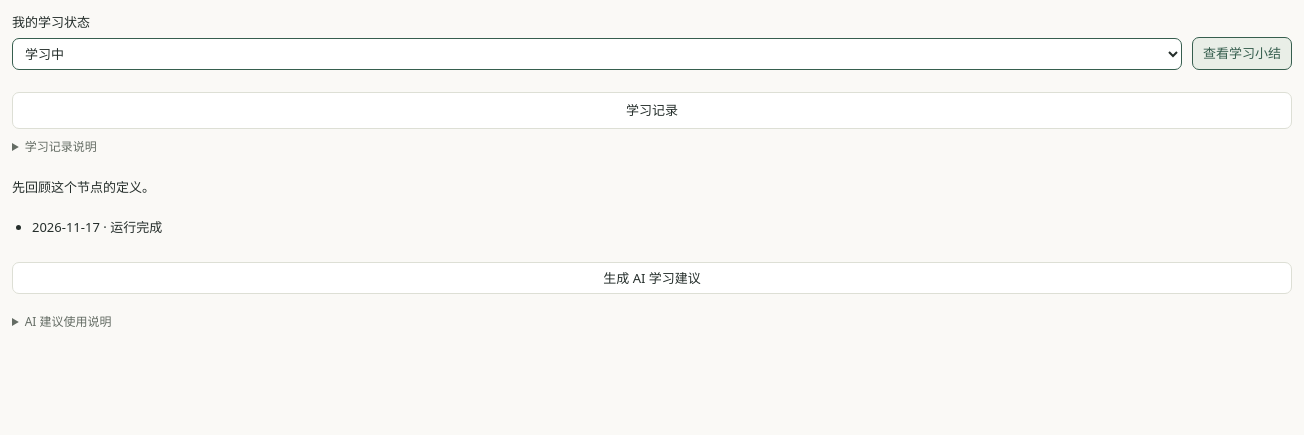
Scenario: opening the records tab directly only reads existing records and shows model scope on demand
Expected: the text "先回顾这个节点的定义。" is shown, [12,178,155,196]
Expected: the text "将当前节点、近期运行状态和最多 5 条经验的片段发送给所选模型。" is not shown
Click the heading "AI 建议使用说明". click: (68, 322)
box: [25,313,112,330]
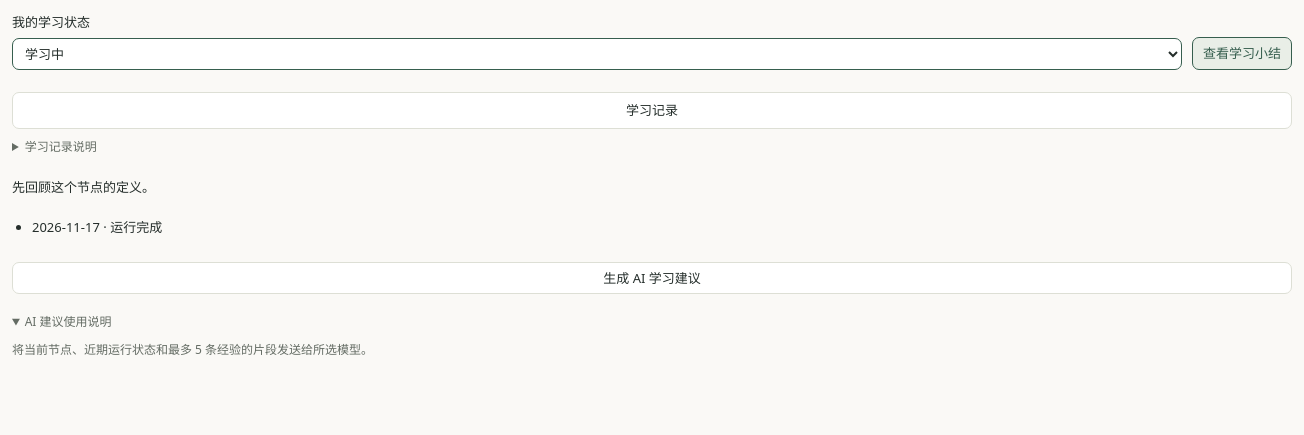
Result: the text "将当前节点、近期运行状态和最多 5 条经验的片段发送给所选模型。" is shown at [12,341,373,358]
Click the button "生成 AI 学习建议". click: (652, 278)
box: [12,262,1292,294]
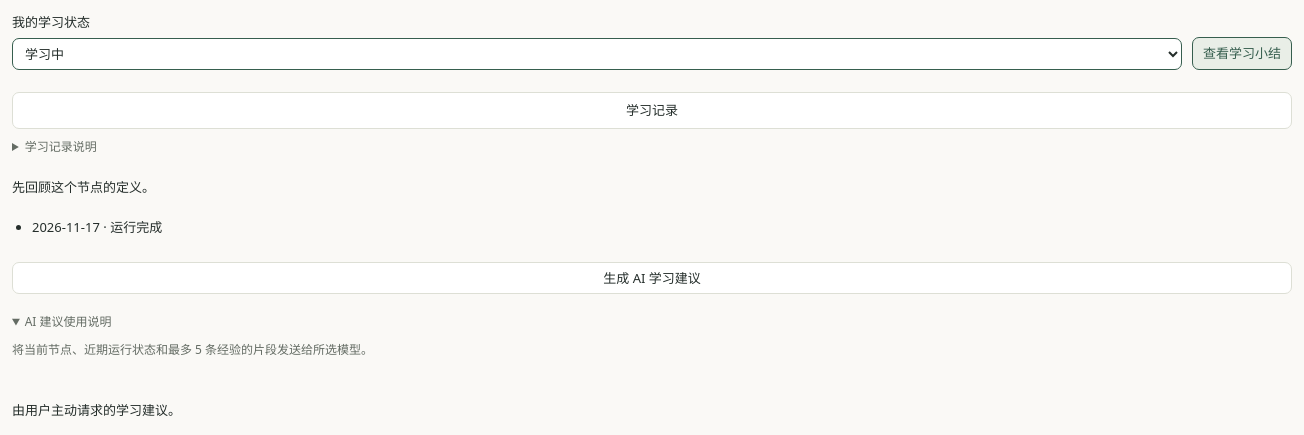
Result: the text "由用户主动请求的学习建议。" is shown at [12,401,181,419]
